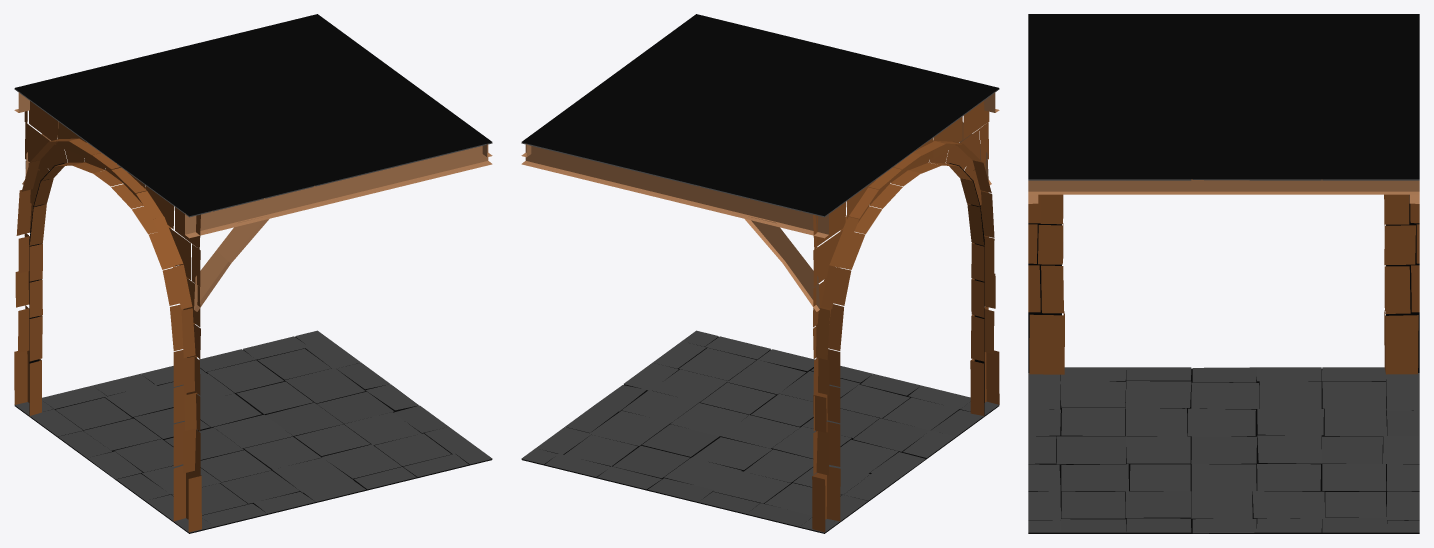
Rendered from wall_4_door.glb.
The picture shows the model from 3 angles, left to right: view 1: azimuth 30°, elevation 25°; view 2: azimuth 150°, elevation 25°; view 3: azimuth 270°, elevation 25°; orthographic projection. The views are drawn at different scales.
Visible parts, largest first — view 1: wall_4_door; view 2: wall_4_door; view 3: wall_4_door.
Boxes of the visible parts, <box> form: wall_4_door: <box>14,14,492,533</box>; wall_4_door: <box>521,14,999,533</box>; wall_4_door: <box>1028,14,1419,533</box>.
Bounding box in the file's own units: 3 × 3 × 3.
Materials: 1 (1 with a texture image).
